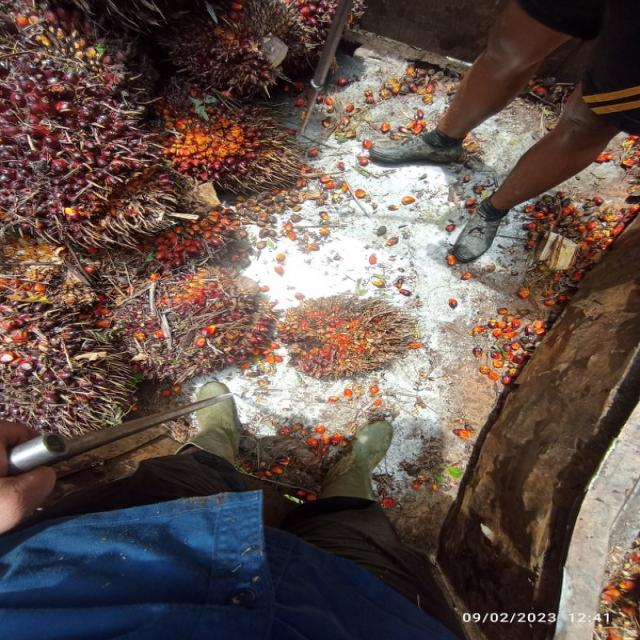fraksi 00: (0, 294, 125, 443)
fraksi 1: (108, 261, 288, 385)
fraksi 3: (142, 75, 290, 189)
fraksi 4: (236, 278, 451, 400)
